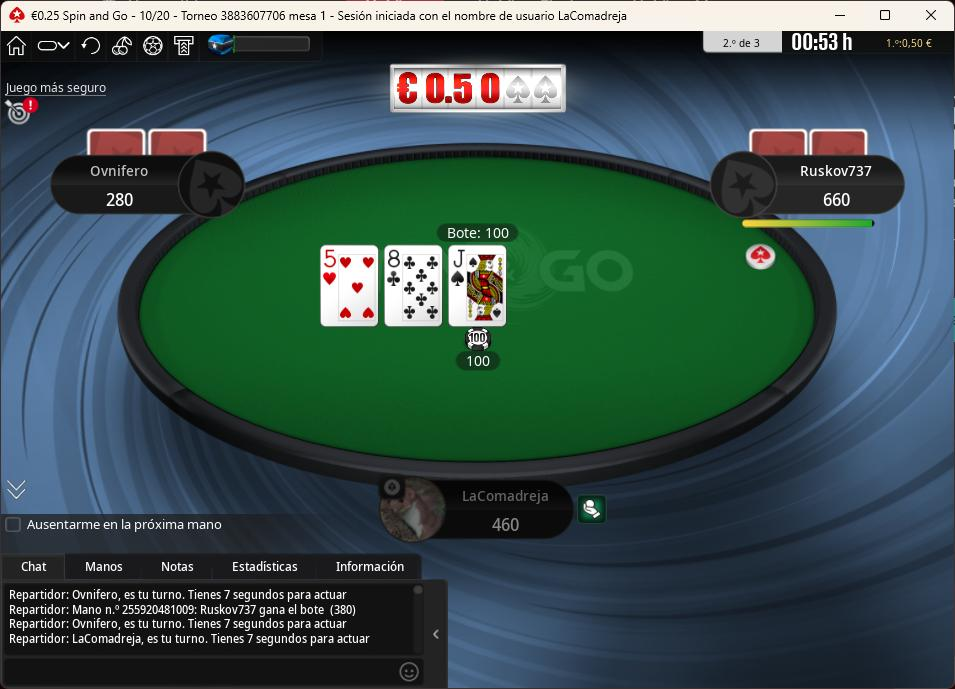HiddenCards: (83, 129, 213, 159), (745, 129, 868, 158)
Player: (716, 155, 911, 220), (49, 152, 245, 214)
PlayerChips: (102, 188, 140, 209), (822, 189, 856, 212)
Pot: (436, 222, 518, 241)
PrincipalPlayer: (372, 474, 570, 542)
PrincipalPlayerChips: (483, 512, 529, 534)
ShowedCards: (316, 241, 510, 330)
ShowedCards1: (317, 244, 383, 330)
ShowedCards2: (384, 246, 446, 330)
ShowedCards3: (446, 243, 510, 328)
SmallBigBlind: (130, 2, 180, 30)
TablePot: (455, 322, 505, 374)
